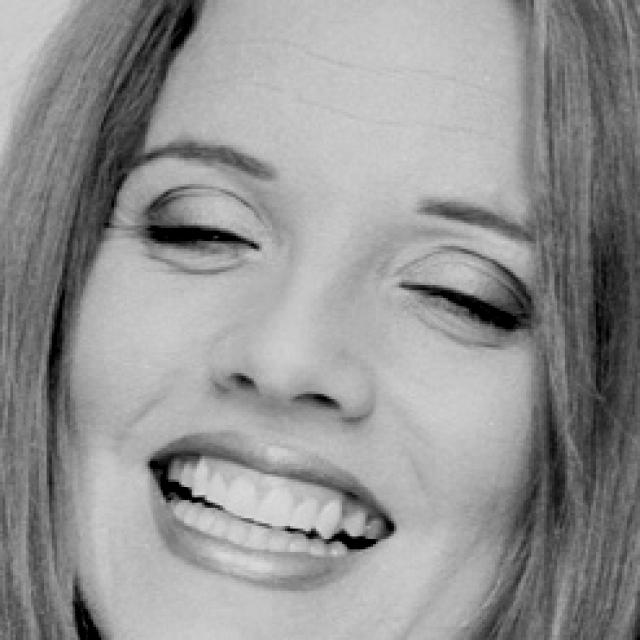real: (49, 71, 558, 640), (128, 159, 532, 346)
